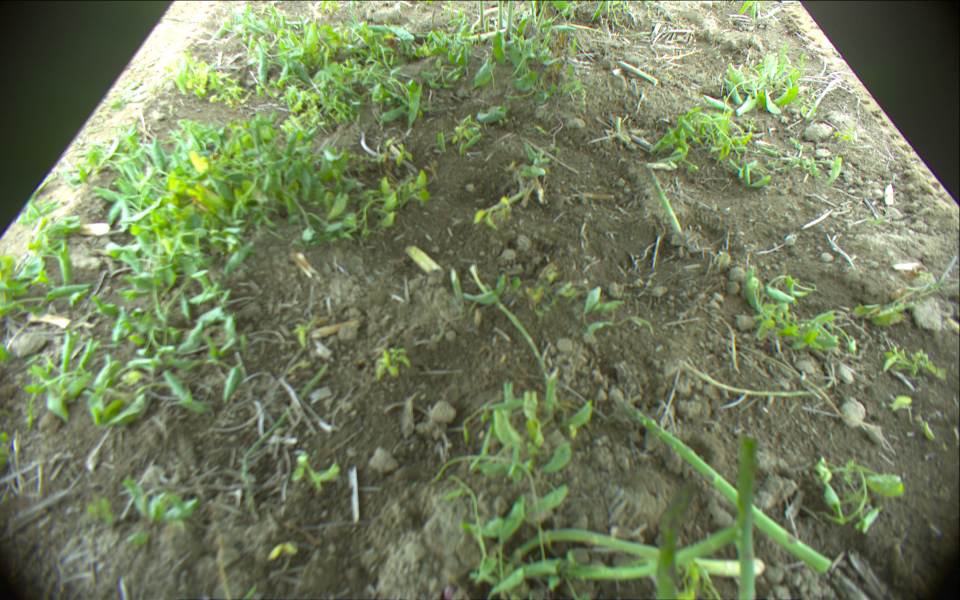aspa: (615, 391, 833, 574), (496, 519, 741, 593), (510, 528, 765, 578), (471, 263, 555, 403), (736, 433, 759, 600), (649, 166, 684, 235), (535, 1, 549, 30), (507, 1, 514, 39), (495, 1, 503, 29), (479, 1, 484, 28)
